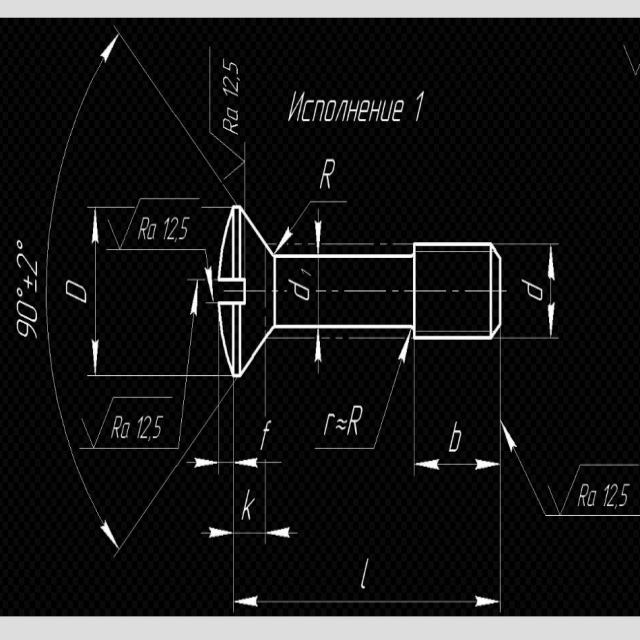marking_line: (47, 27, 215, 562), (187, 378, 505, 615), (89, 205, 218, 384), (79, 278, 199, 451), (502, 419, 640, 521), (411, 342, 504, 476), (313, 329, 412, 454), (188, 381, 281, 470), (105, 240, 218, 303), (201, 476, 293, 543), (503, 238, 560, 344), (279, 197, 350, 252), (312, 208, 325, 254), (312, 331, 324, 377)
numeric: (319, 157, 338, 192), (520, 278, 544, 302), (65, 278, 88, 303), (347, 402, 363, 436), (448, 418, 463, 454), (16, 253, 40, 275), (16, 297, 38, 321), (289, 279, 311, 303), (17, 317, 39, 340), (414, 90, 426, 124), (260, 418, 272, 451), (221, 57, 240, 74), (222, 75, 242, 91), (362, 556, 371, 590), (620, 479, 630, 508), (167, 215, 179, 239), (179, 216, 191, 240), (223, 119, 239, 135), (608, 482, 617, 509), (223, 88, 242, 100), (225, 106, 240, 120), (301, 265, 312, 279), (162, 215, 168, 240), (602, 481, 607, 510)
special_symbol: (543, 459, 582, 515), (80, 395, 115, 450)
